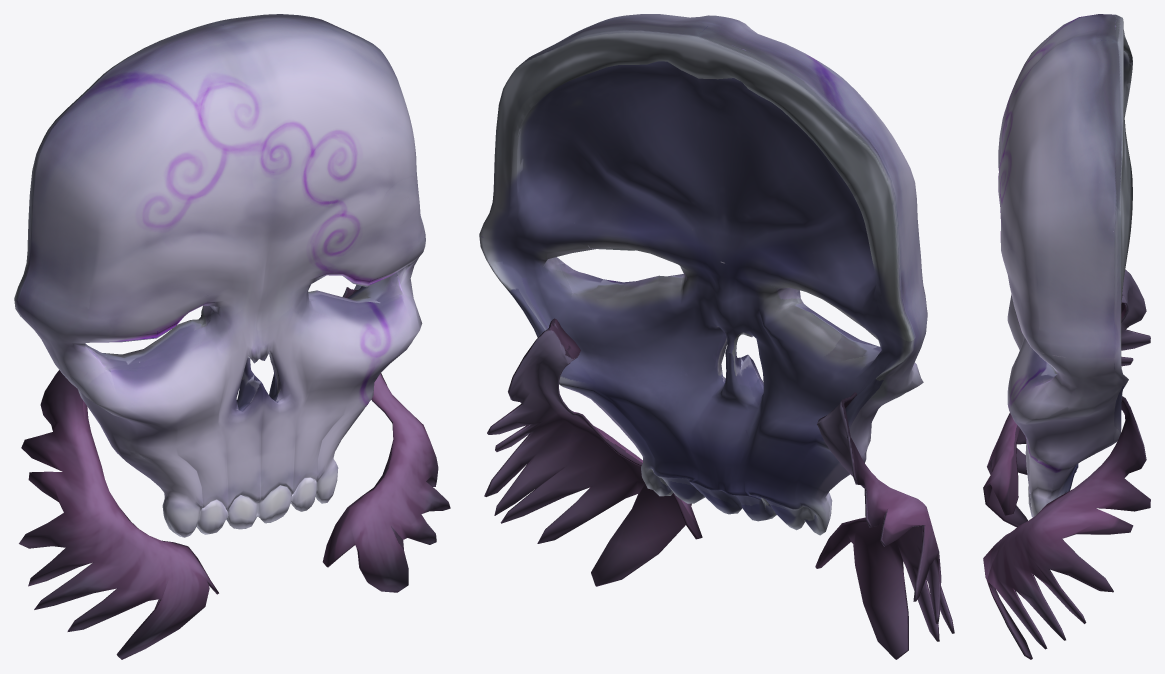
File: SkullMaskapplied.fbx
3 views of the same model, side by side, from view 1: azimuth 30°, elevation 25°; view 2: azimuth 150°, elevation 25°; view 3: azimuth 270°, elevation 25° (orthographic). The views are drawn at different scales.
Parts seen in each view (by area): view 1: sKULL; view 2: sKULL; view 3: sKULL.
Boxes of the visible parts, left/top/right/bottom form: sKULL: left=14, top=14, right=450, bottom=659; sKULL: left=479, top=14, right=954, bottom=659; sKULL: left=983, top=14, right=1150, bottom=659.
Size of the model in its own units: 283 by 373 by 102.
